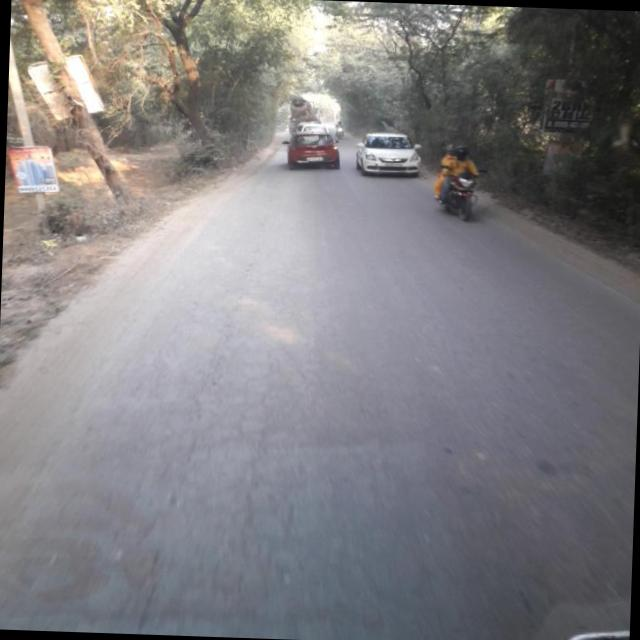crack: (30, 218, 494, 640)
